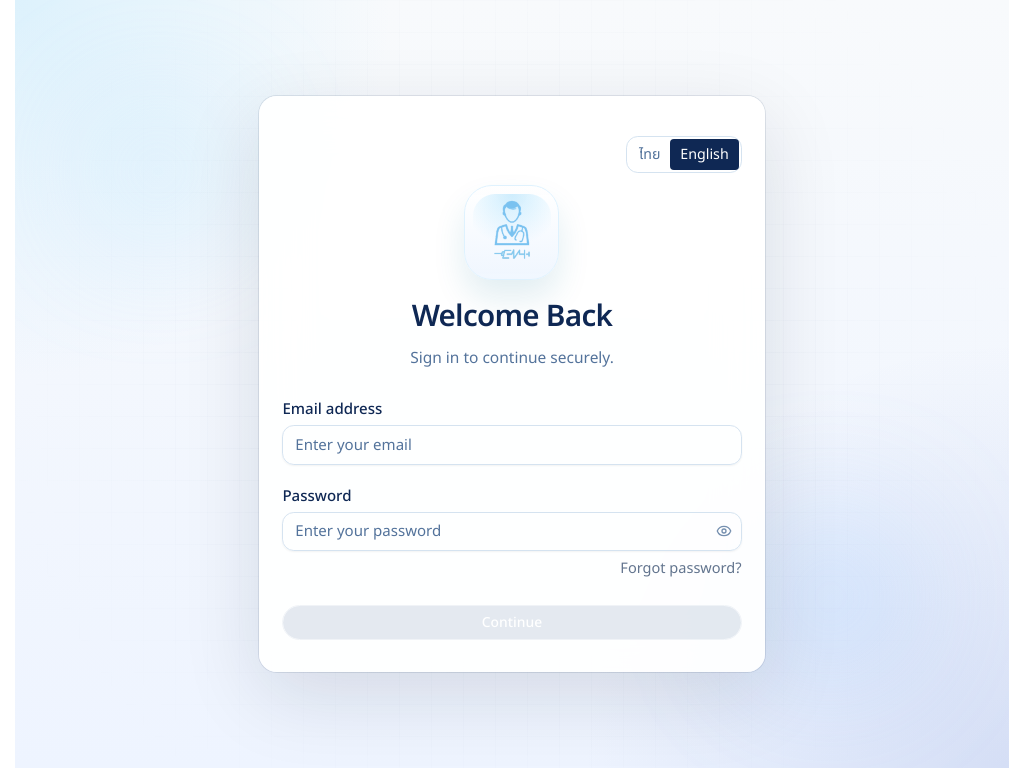
Test: LoginClientPage › only enables the continue button after email and password are both filled
expect the button "Continue" is disabled: met, box [282, 605, 742, 640]
In the field labelled "Email address": (512, 445) [282, 425, 742, 465], type "doctor@example.com"
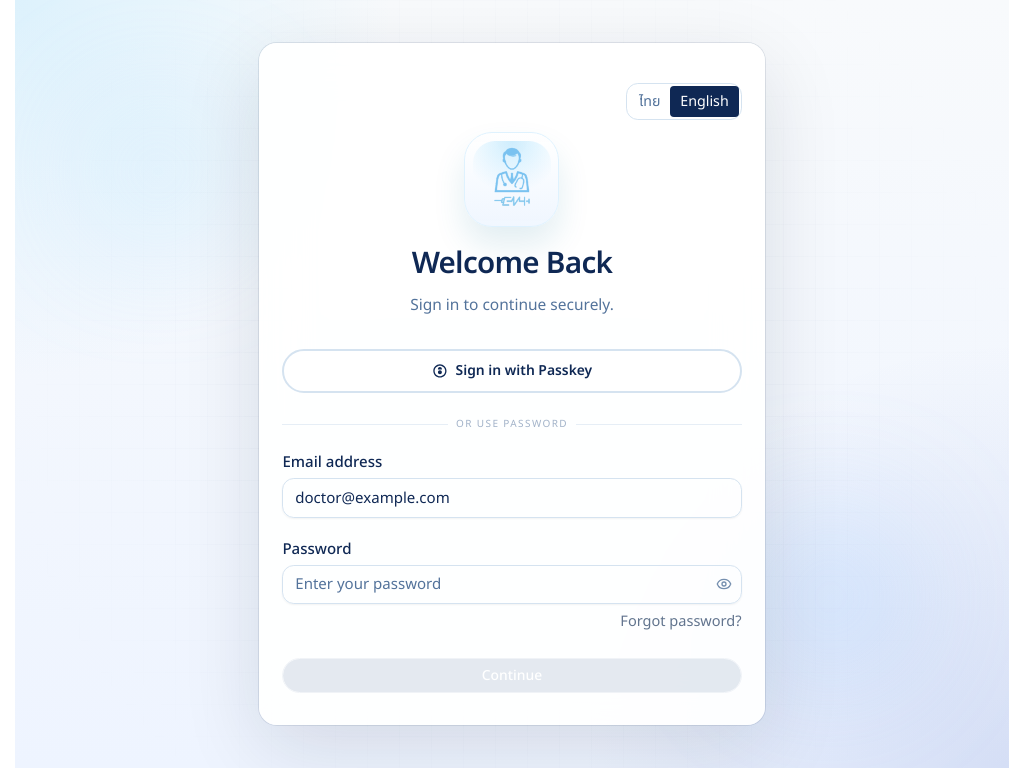
expect the button "Continue" is disabled: met, box [282, 658, 742, 693]
In the password field labelled "Password": (512, 584) [282, 565, 742, 604], type "Password123!"
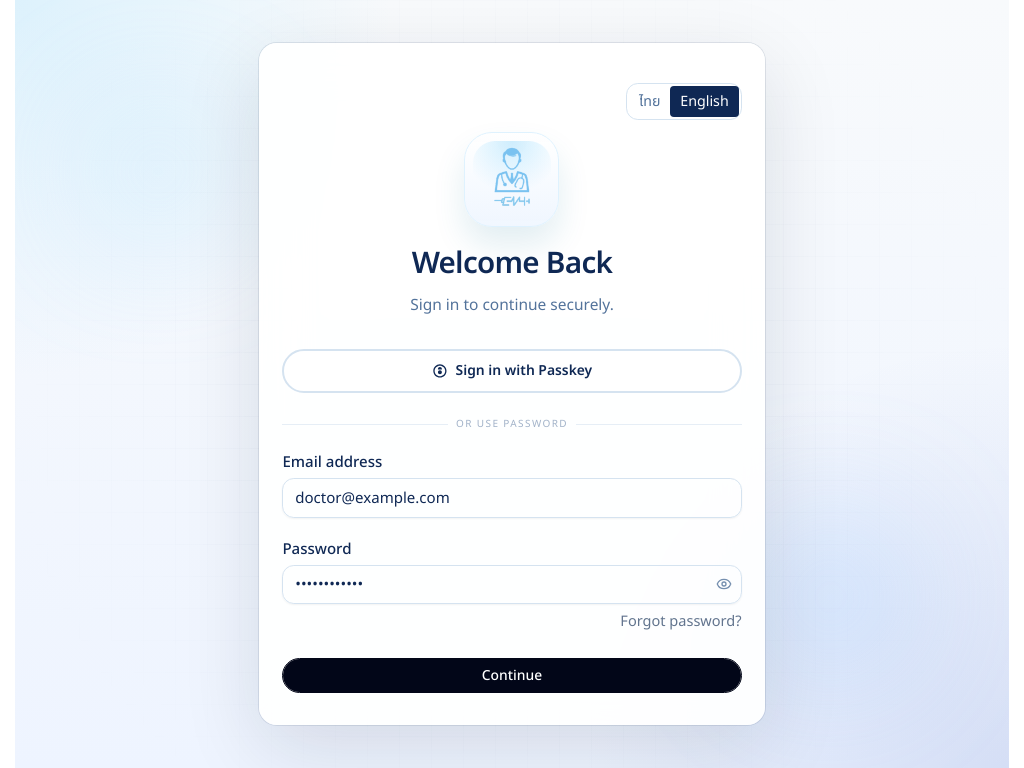
expect the button "Continue" is enabled: met, box [282, 658, 742, 693]
